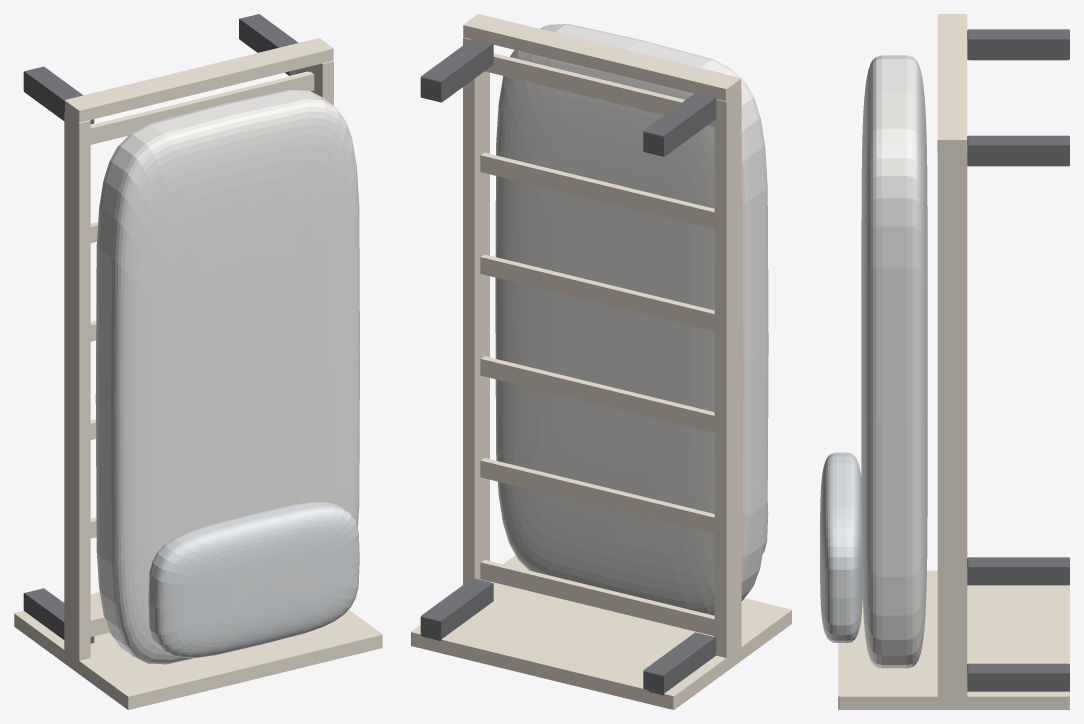
File: bed_single.glb
3 views of the same model, side by side, from view 1: azimuth 30°, elevation 25°; view 2: azimuth 150°, elevation 25°; view 3: azimuth 270°, elevation 25° (orthographic). The views are drawn at different scales.
Parts seen in each view (by area): view 1: mattress, pillow, frame_6, frame_14, frame_5, frame_13, frame_1, frame_3, frame, frame_7; view 2: mattress, frame_14, frame_6, frame_7, frame_5, frame_12, frame_9, frame_10, frame_11, frame_8, frame_13, frame_3 (+3 smaller); view 3: mattress, frame_14, frame_7, pillow, frame_5, frame_1, frame_3, frame, frame_2.
Boxes of the visible parts, <box> form: mattress: <box>95,89,359,664</box>; pillow: <box>148,502,359,657</box>; frame_6: <box>64,112,90,660</box>; frame_14: <box>14,592,382,709</box>; frame_5: <box>65,38,333,122</box>; frame_13: <box>90,71,314,144</box>; frame_1: <box>23,66,94,124</box>; frame_3: <box>239,14,307,75</box>; frame: <box>23,588,94,643</box>; frame_7: <box>308,60,333,105</box>; mattress: <box>495,24,768,615</box>; frame_14: <box>411,555,791,709</box>; frame_6: <box>714,91,741,657</box>; frame_7: <box>463,37,489,584</box>; frame_5: <box>463,14,741,101</box>; frame_12: <box>480,152,714,228</box>; frame_9: <box>480,458,714,534</box>; frame_10: <box>480,356,714,432</box>; frame_11: <box>480,254,714,330</box>; frame_8: <box>480,559,714,636</box>; frame_13: <box>485,53,714,127</box>; frame_3: <box>420,38,493,102</box>; mattress: <box>861,55,927,668</box>; frame_14: <box>838,570,1069,709</box>; frame_7: <box>937,152,967,697</box>; pillow: <box>820,452,862,642</box>; frame_5: <box>937,14,967,151</box>; frame_1: <box>967,29,1069,60</box>; frame_3: <box>967,135,1069,166</box>; frame: <box>967,557,1069,585</box>; frame_2: <box>967,663,1069,691</box>.
Size of the model in its own units: 0.9 by 1.9 by 0.755.
